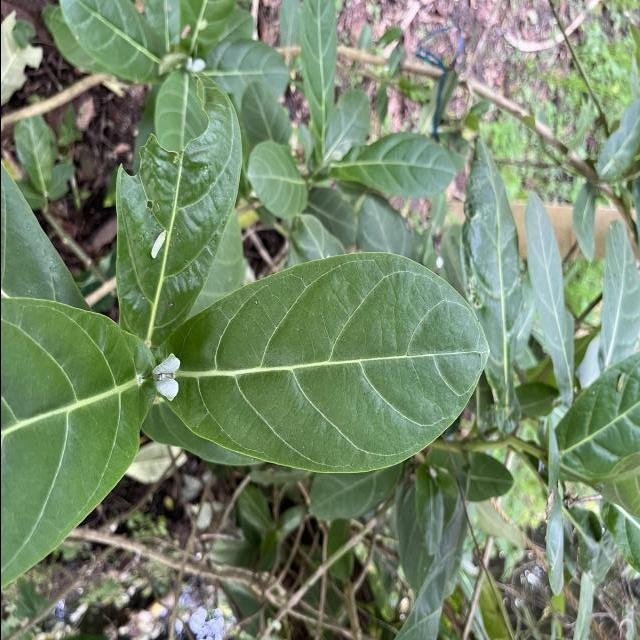Calotropis gigantea: (159, 246, 492, 478), (352, 130, 458, 201), (300, 0, 340, 146), (243, 145, 310, 220)
